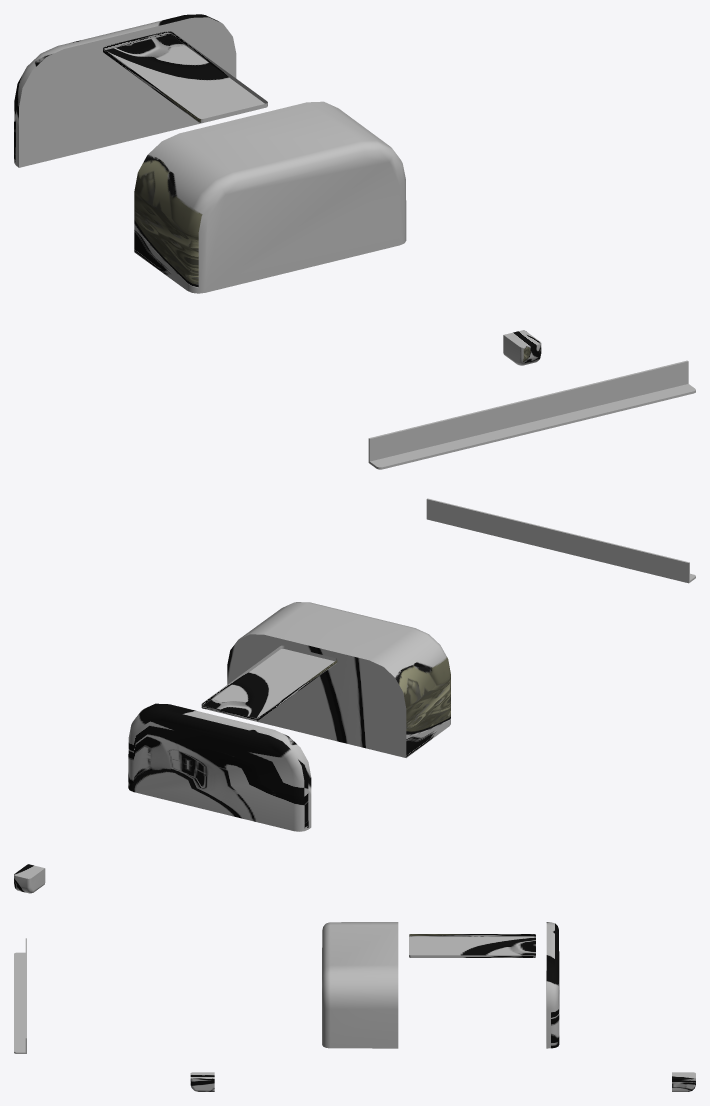
Rendered from Fridge_Door_A_1.obj.
3 views of the same model, one above another, from view 1: azimuth 30°, elevation 25°; view 2: azimuth 150°, elevation 25°; view 3: azimuth 270°, elevation 25° (orthographic). The views are drawn at different scales.
Size of the model in its own units: 0.3901 by 0.1909 by 1.12.
